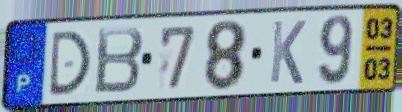7: (158, 23, 197, 93)
8: (201, 18, 248, 93)
9: (314, 13, 359, 88)
B: (92, 24, 146, 97)
D: (46, 28, 93, 99)
K: (267, 19, 309, 87)
